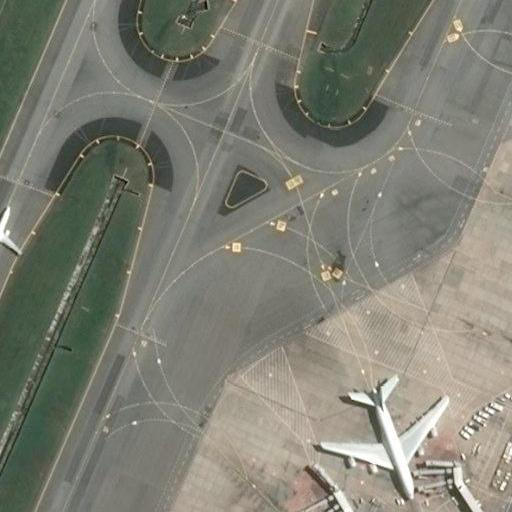Aircraft: (311, 370, 451, 500), (0, 202, 23, 256)
